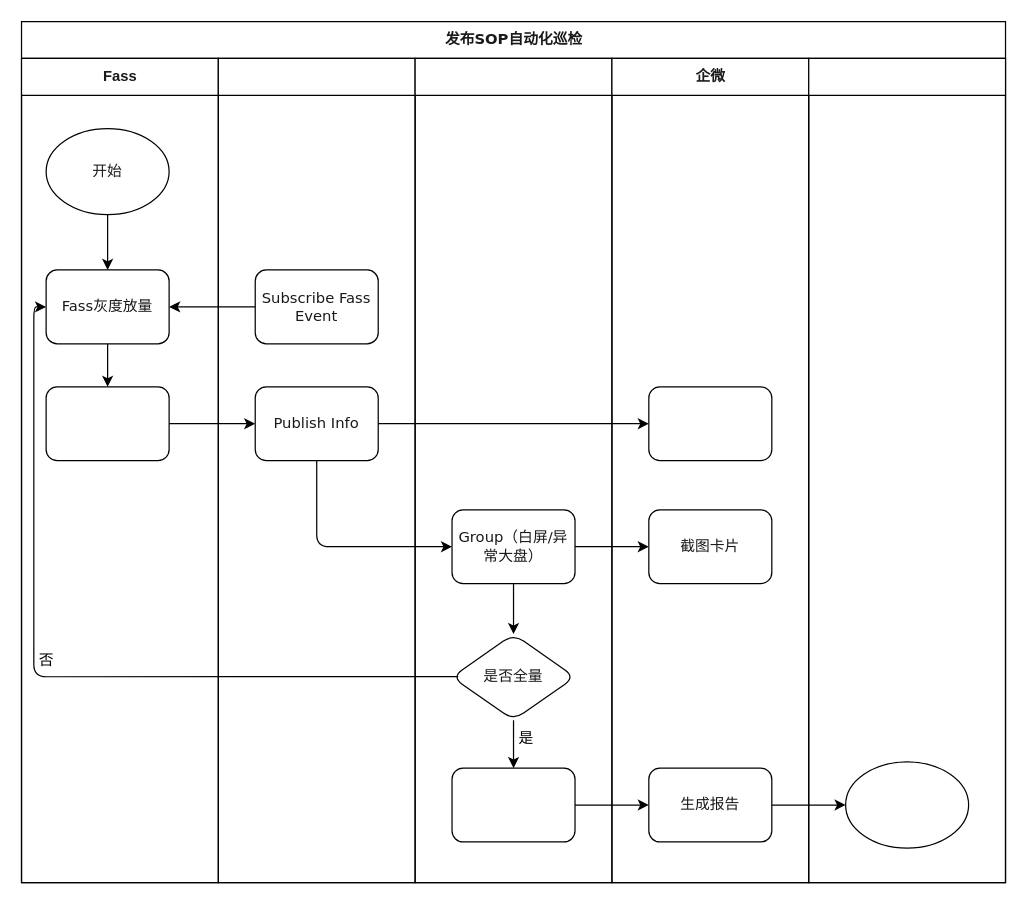
Some shapes in this 1027 by 904 pixel diagram are drawn without their labels. The shapes that lost their labels are listed below. From the top down, each one's box as (x1, y1, x2, y2) in pixels, then its label:
(45, 386, 169, 461): PostMsg
(648, 386, 772, 461): 生成发布消息卡片
(217, 57, 415, 883): Node Bff Biz
(414, 57, 612, 883): 灵眸 Bff
(451, 767, 575, 842): AI Analyse Agent
(844, 761, 969, 848): 结束
